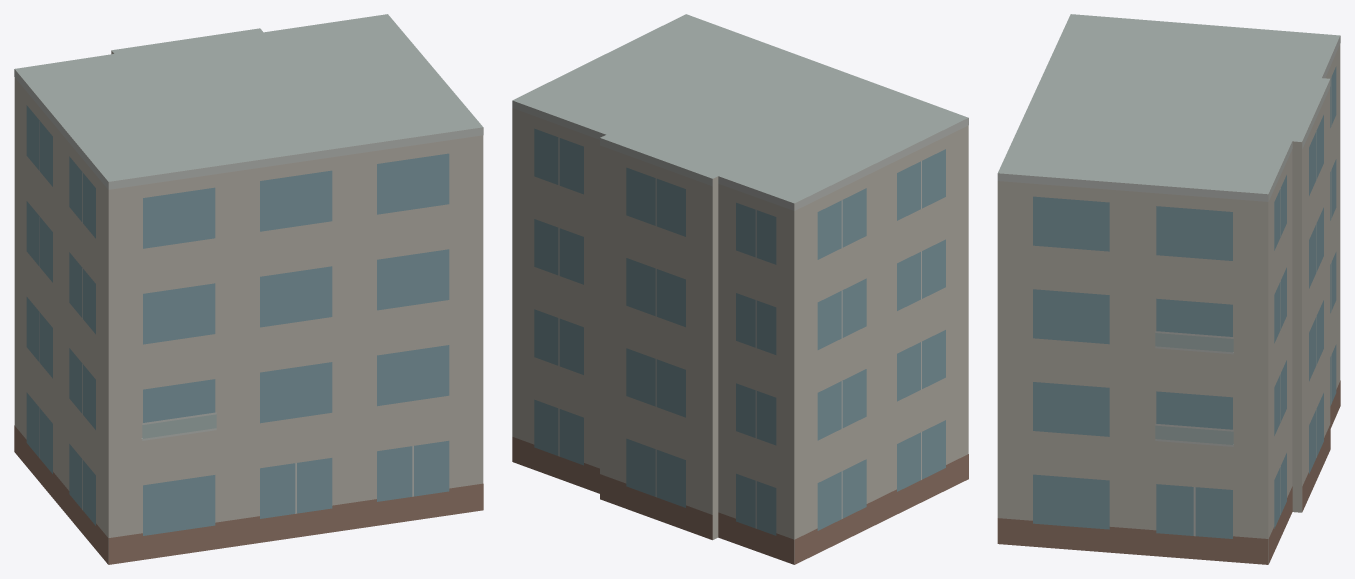
File: survey-upis-33024632.glb
3 renders of one model, left to right at view 1: azimuth 30°, elevation 25°; view 2: azimuth 150°, elevation 25°; view 3: azimuth 270°, elevation 25°, orthographic. The views are drawn at different scales.
Visible parts, largest first — view 1: survey-upis-33024632.tmp; view 2: survey-upis-33024632.tmp; view 3: survey-upis-33024632.tmp.
Boxes of the visible parts, x1,y1,x2,y2 form: survey-upis-33024632.tmp: (14, 14, 483, 564); survey-upis-33024632.tmp: (512, 14, 968, 564); survey-upis-33024632.tmp: (997, 14, 1340, 564).
Bounding box in the file's own units: 12.21 × 11.7 × 9.82.
